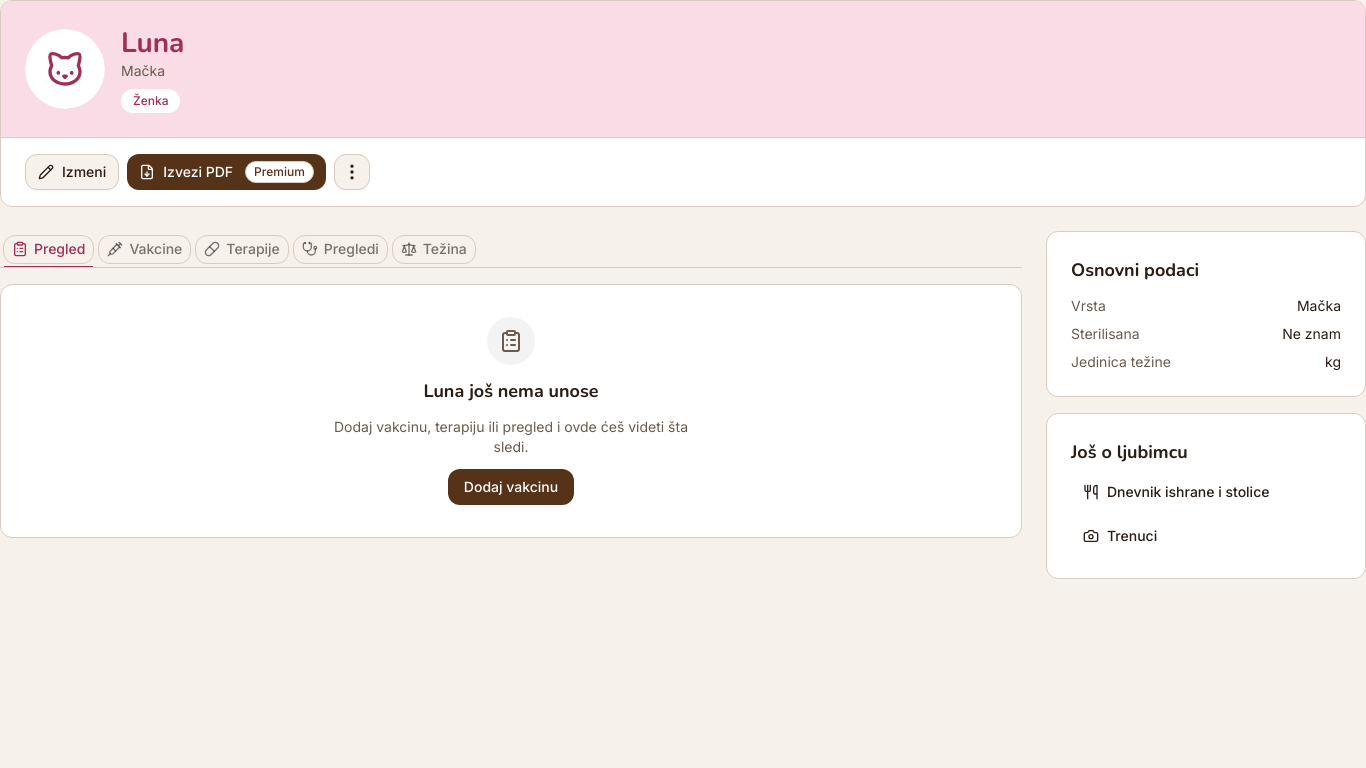
Test: EP-06 — Premesti u Uspomene › FR-11 / FR-36: a Free owner's third memorial shows PremiumLock inside the dialog
The width and height of the screenshot is (1366, 768).
Click the button named "Još opcija" at x=352, y=172, box [334,154,370,190]
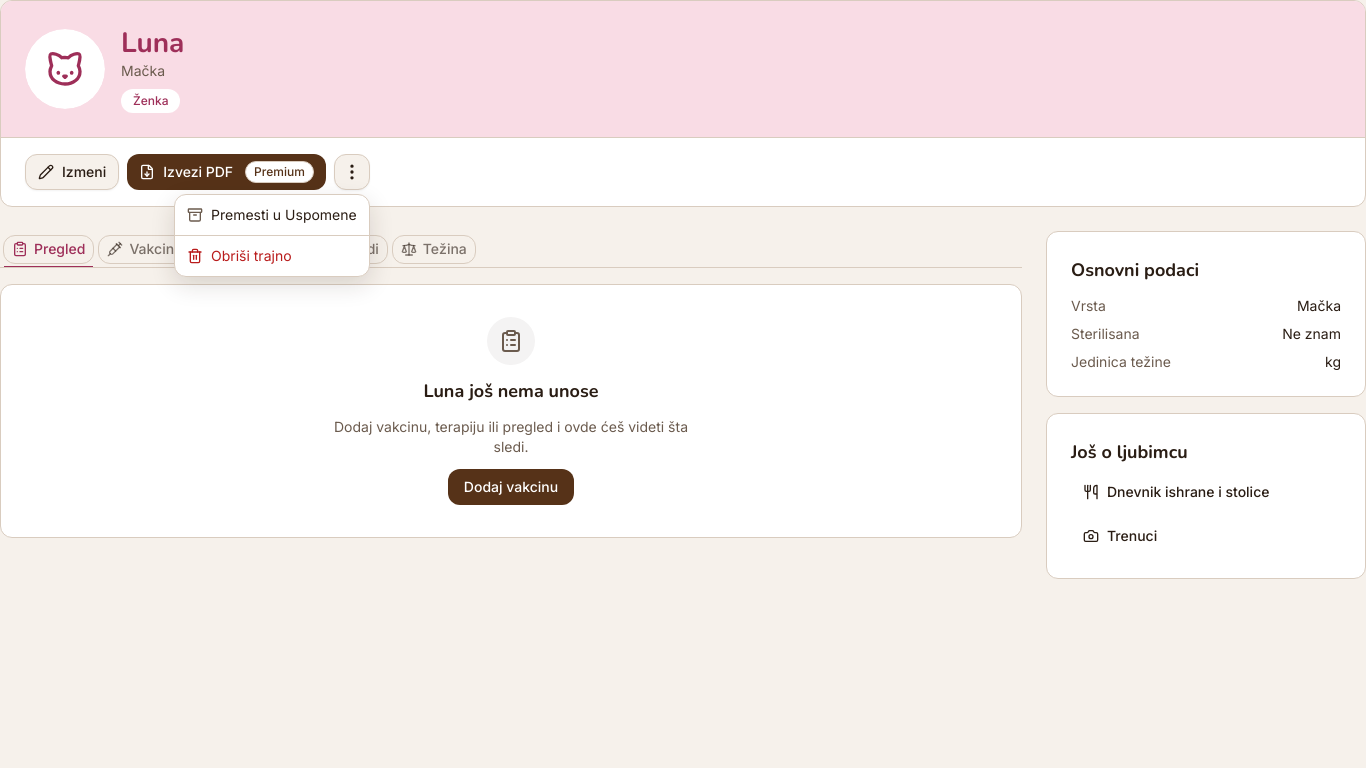
Click the menu item "Premesti u Uspomene" at x=272, y=214, box [187,206,357,223]
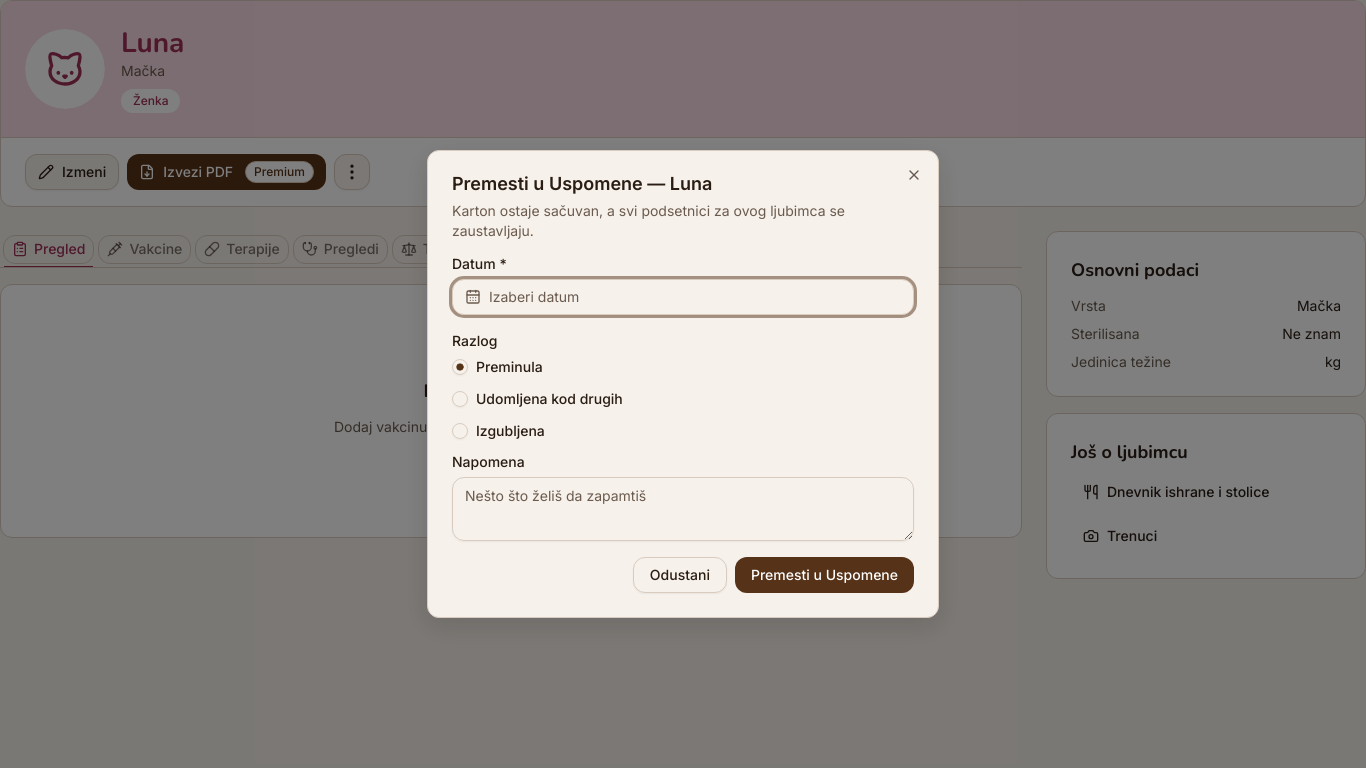
Click the button named "Datum *" at x=534, y=296, box [452,279,914,315]
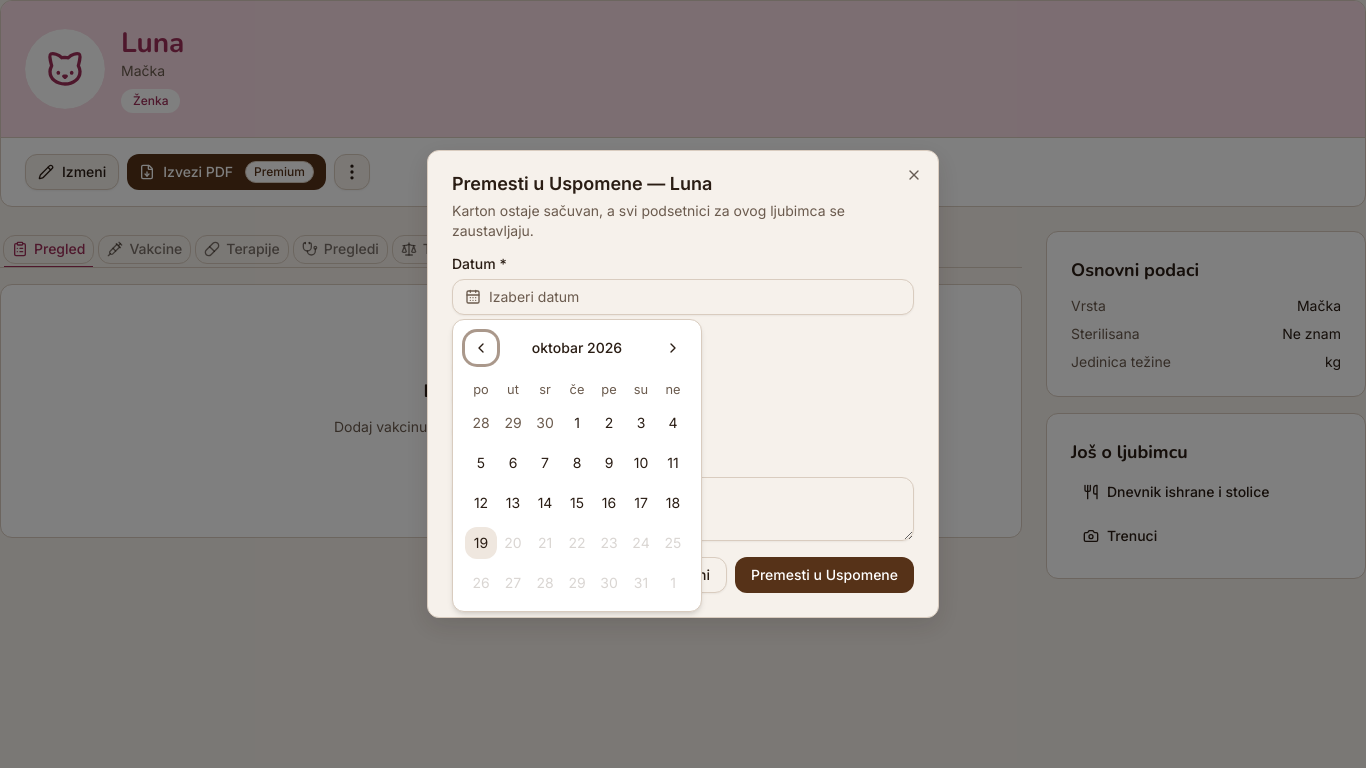
Click the button "18" at x=673, y=503, box [657,487,689,519]
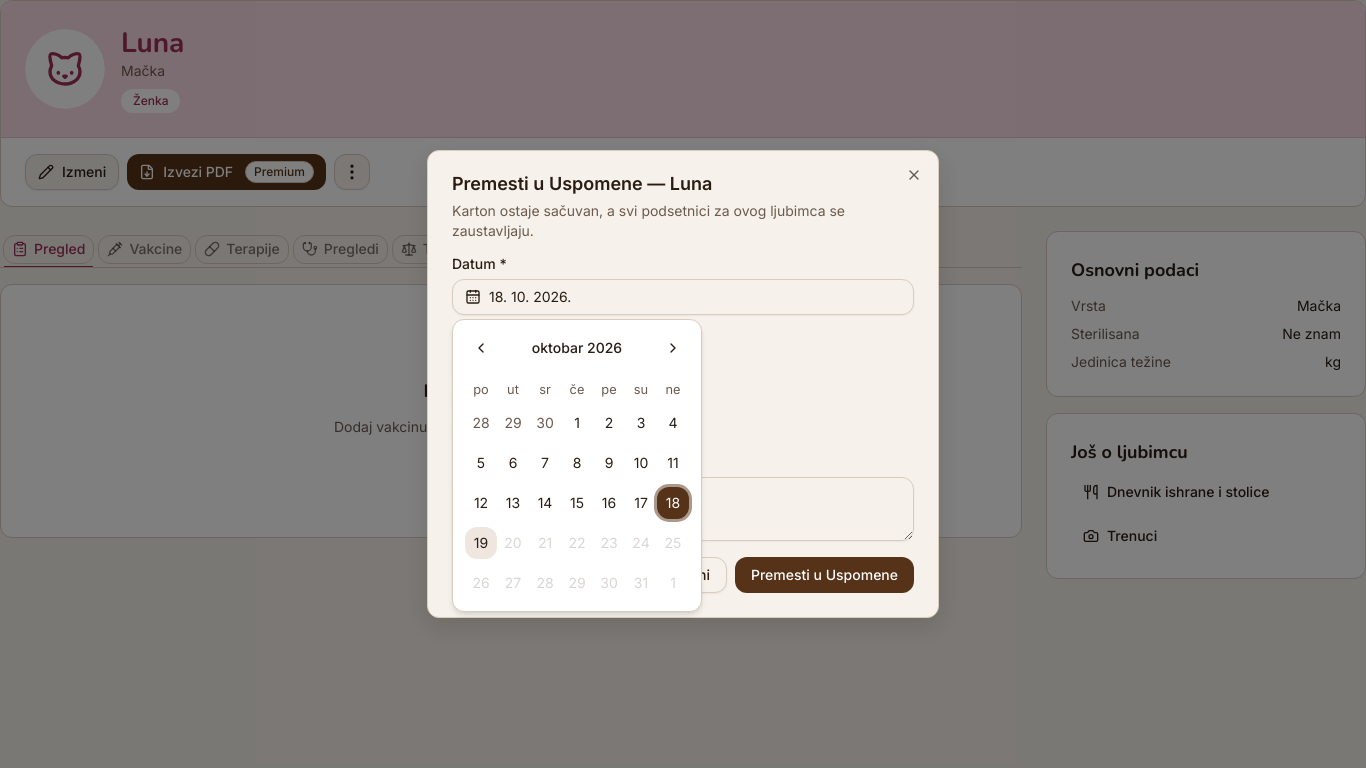
Click the button "Premesti u Uspomene" at x=824, y=575, box [735,557,914,593]
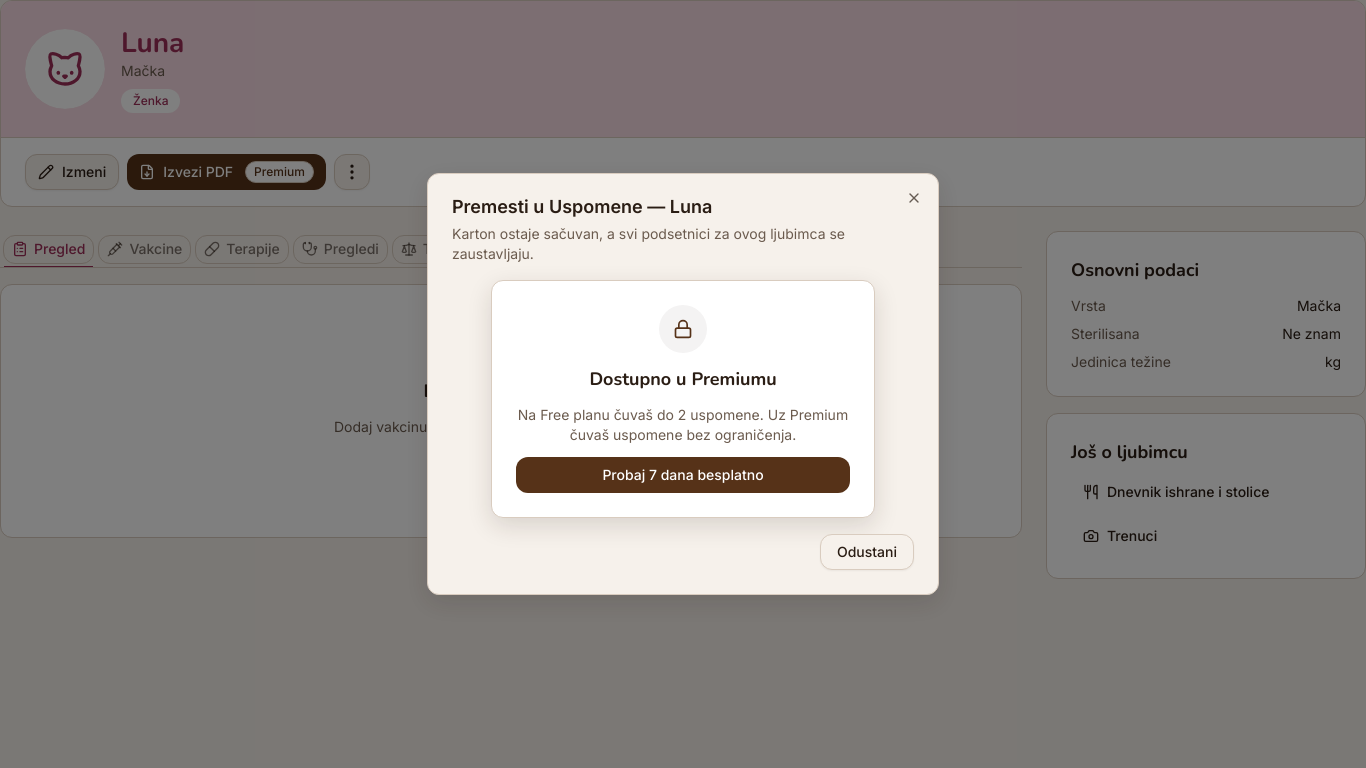
Check: the heading "Dostupno u Premiumu" is shown, box [589,365,777,393]
Check: the text "Na Free planu čuvaš do 2 uspomene. Uz Premium čuvaš uspomene bez ograničenja." is shown, box [516,405,850,445]
Check: the button "Probaj 7 dana besplatno" is shown, box [516,457,850,493]
